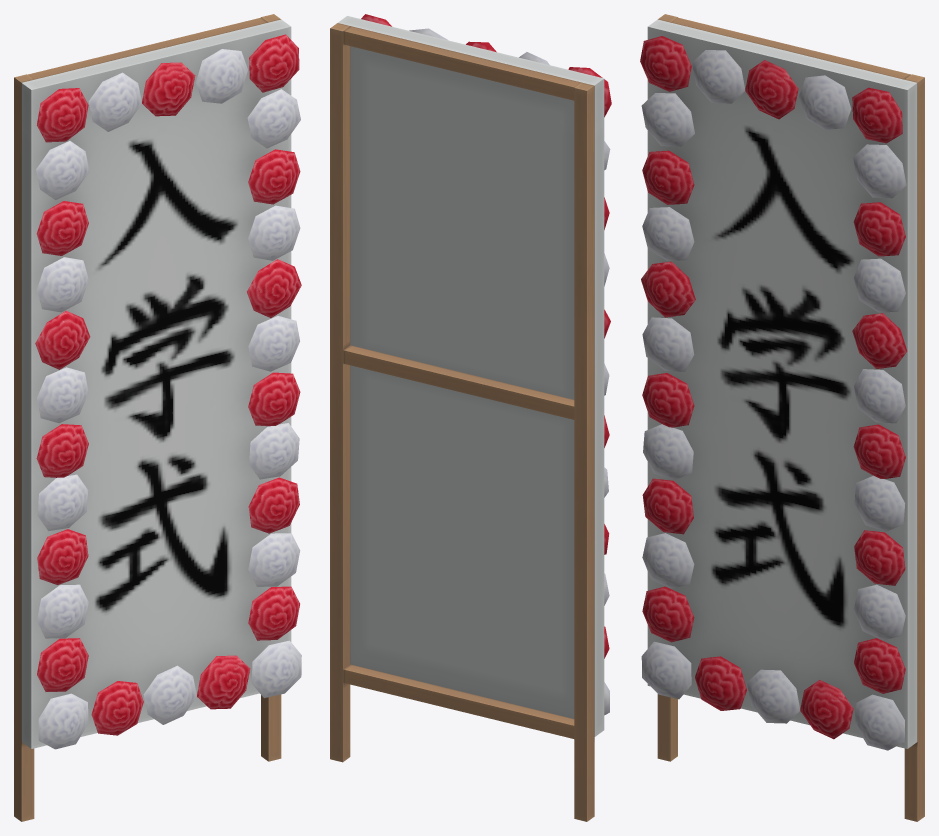
Rendered from set_signboard_01.fbx.
3 renders of one model, left to right at view 1: azimuth 30°, elevation 25°; view 2: azimuth 150°, elevation 25°; view 3: azimuth 330°, elevation 25°, orthographic.
Parts seen in each view (by area): view 1: set_signboard_01; view 2: set_signboard_01; view 3: set_signboard_01.
Boxes of the visible parts, x1,y1,x2,y2 form: set_signboard_01: (14,14,301,821); set_signboard_01: (330,14,611,821); set_signboard_01: (640,14,924,821).
Bounding box in the file's own units: 84.15 × 223 × 17.06.
